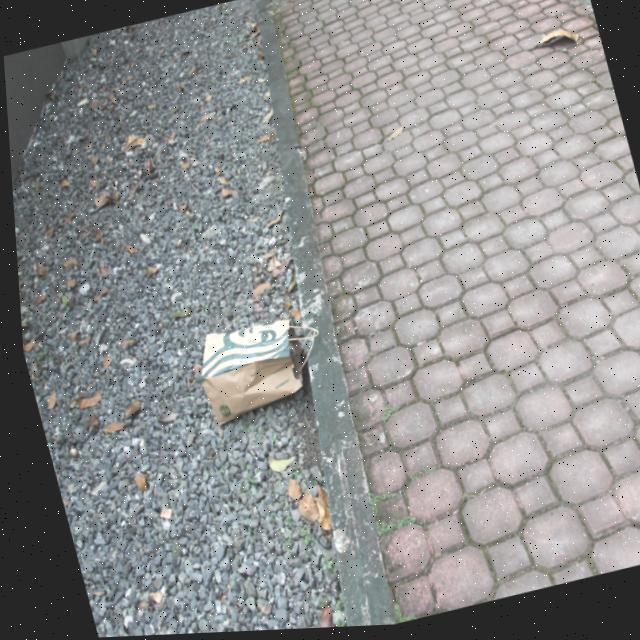Paper_Bag: (185, 308, 332, 428)
